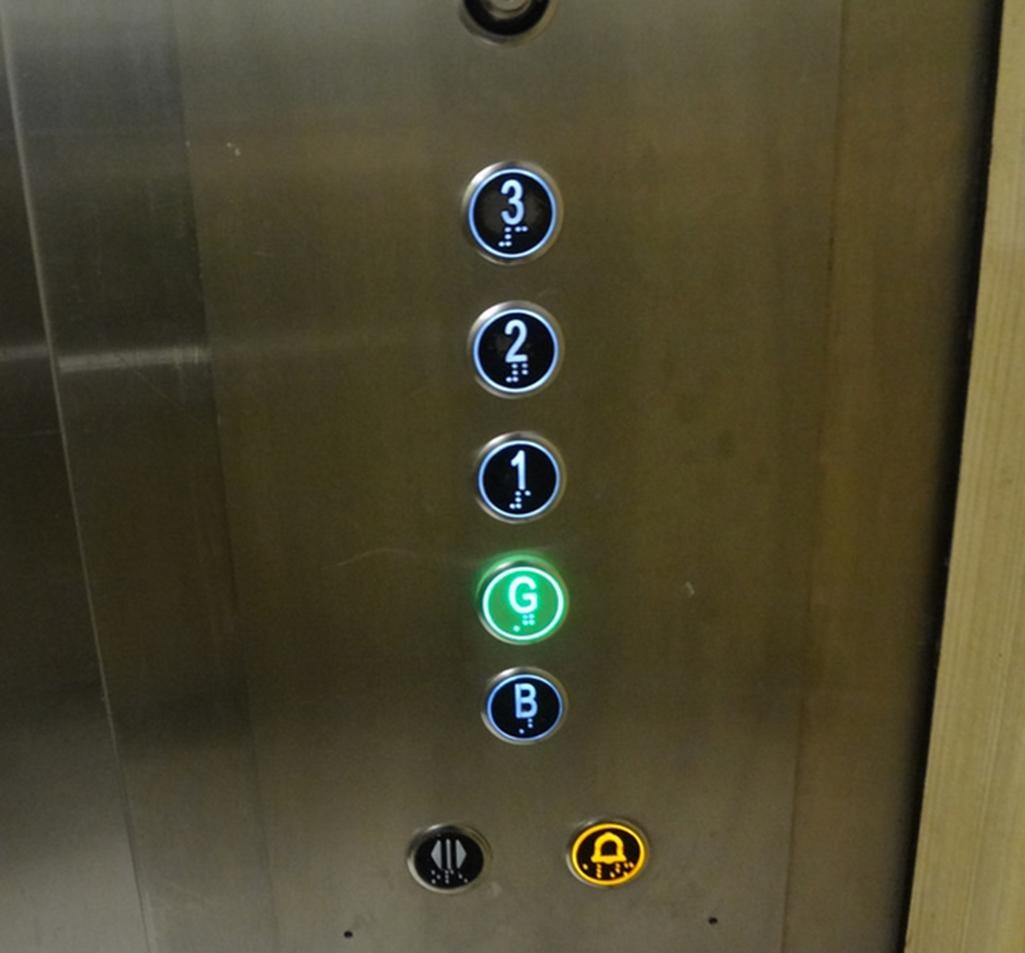1: (468, 428, 570, 527)
2: (464, 298, 567, 402)
3: (456, 157, 565, 268)
B: (477, 665, 570, 746)
G: (470, 550, 570, 649)
alarm: (559, 811, 649, 891)
open: (404, 820, 496, 897)
